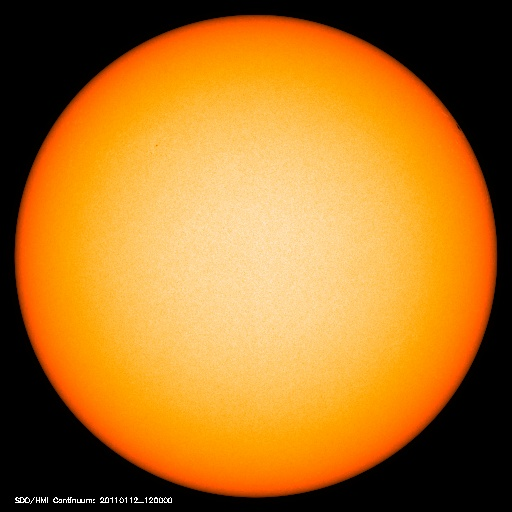sunspot: (447, 112, 471, 141)
